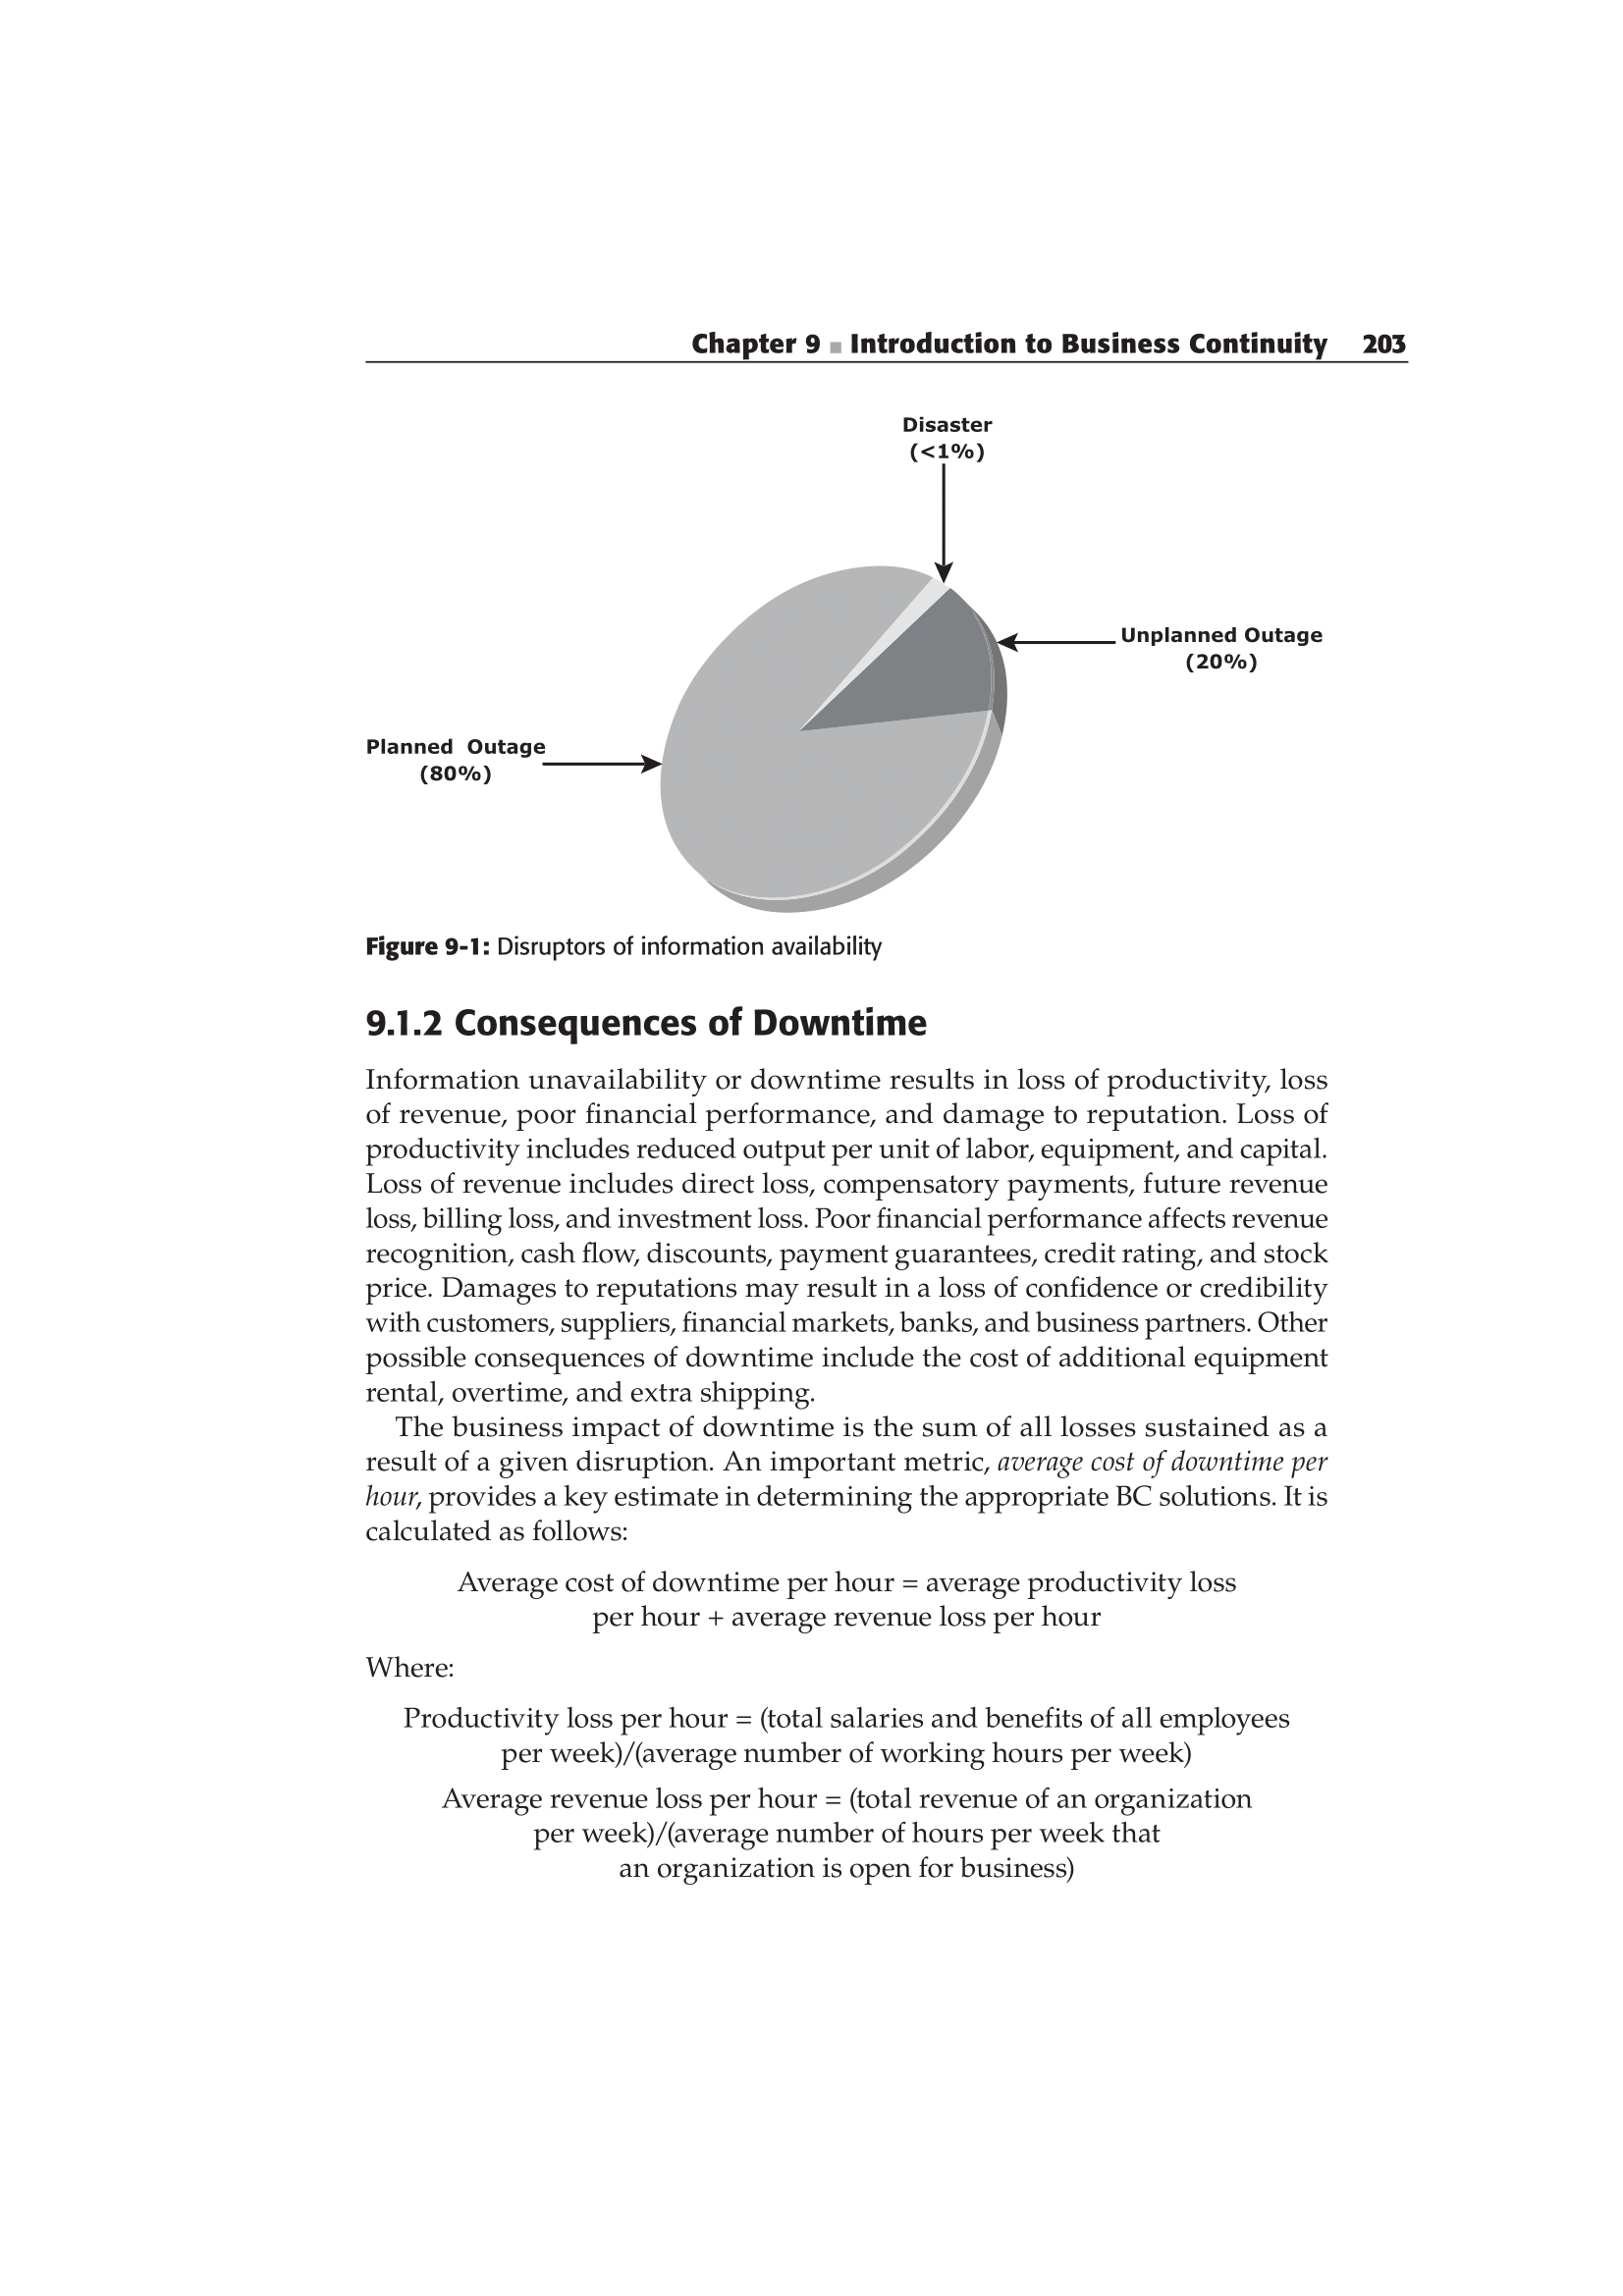Image: (260, 404, 1458, 927)
Paragraph: (292, 1062, 1437, 1899), (634, 272, 1403, 390), (302, 985, 1012, 1048), (325, 923, 966, 981)
